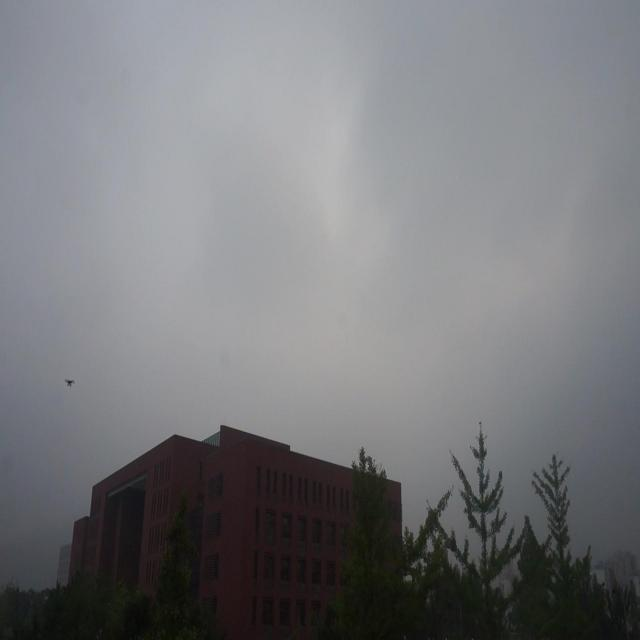UAV: (64, 378, 75, 388)
